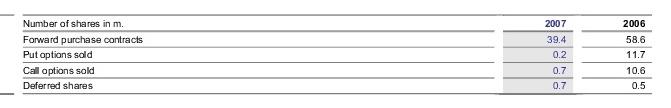table: (0, 0, 671, 108)
